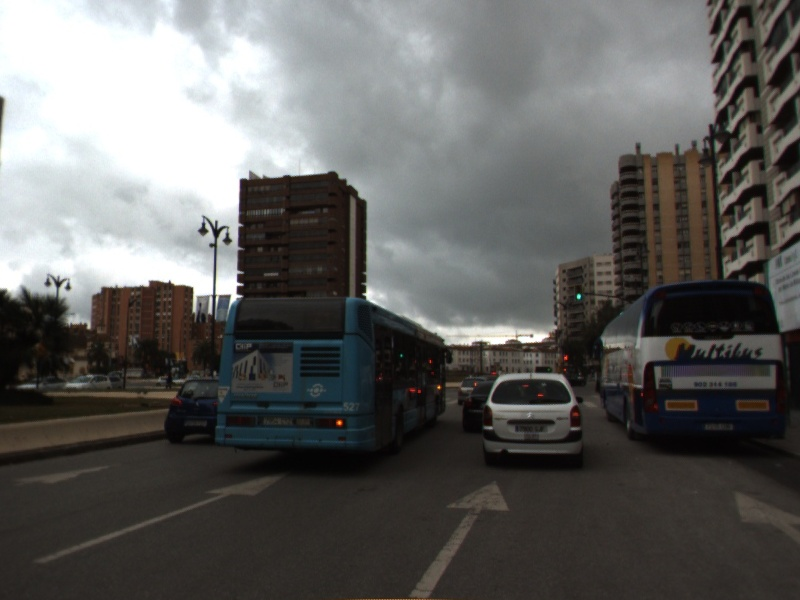STRAIGHT: (28, 464, 295, 568), (401, 475, 515, 600), (727, 485, 800, 547)
